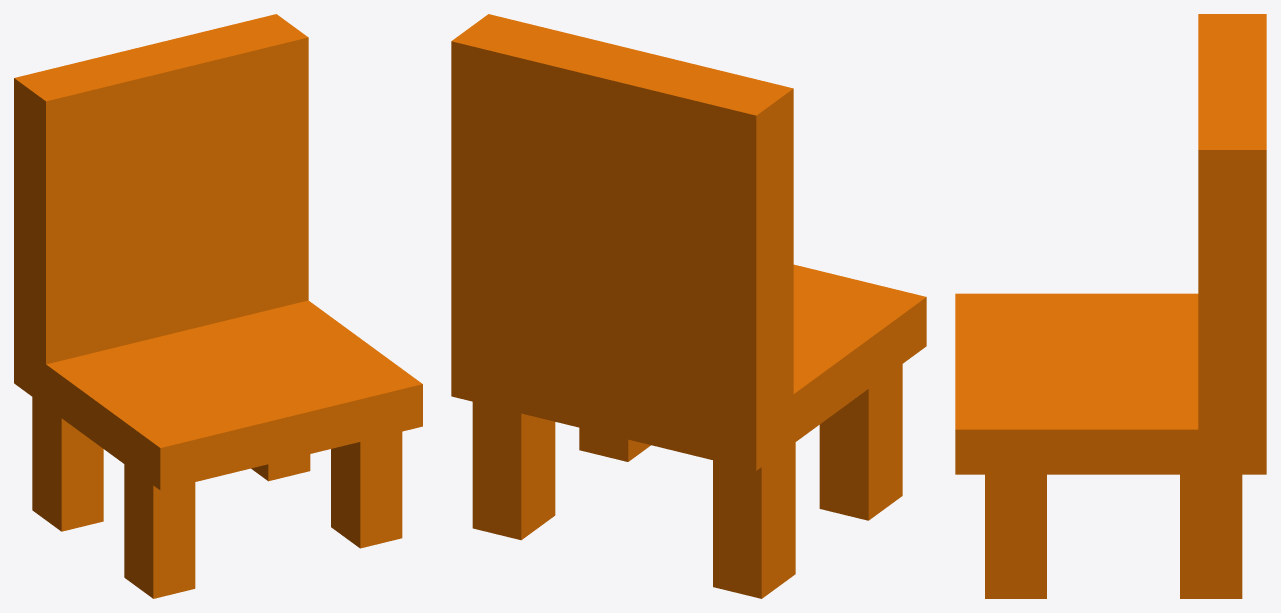
File: Small_Chair_lv1.fbx
3 renders of one model, left to right at view 1: azimuth 30°, elevation 25°; view 2: azimuth 150°, elevation 25°; view 3: azimuth 270°, elevation 25°, orthographic. The views are drawn at different scales.
Parts seen in each view (by area): view 1: Small_Chair_lv1; view 2: Small_Chair_lv1; view 3: Small_Chair_lv1.
Boxes of the visible parts, x1,y1,x2,y2 form: Small_Chair_lv1: (14,14,422,598); Small_Chair_lv1: (451,14,926,598); Small_Chair_lv1: (955,14,1266,598).
Bounding box in the file's own units: 112 × 173 × 108.
